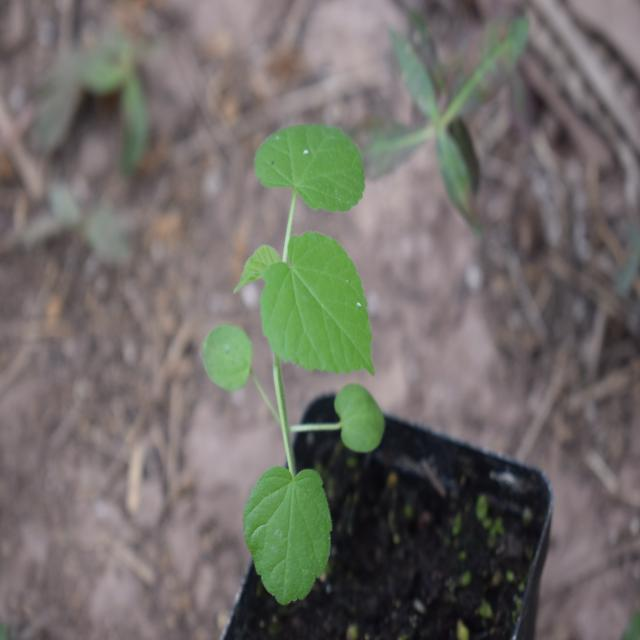abutilon theophrasti: (188, 102, 406, 592)
